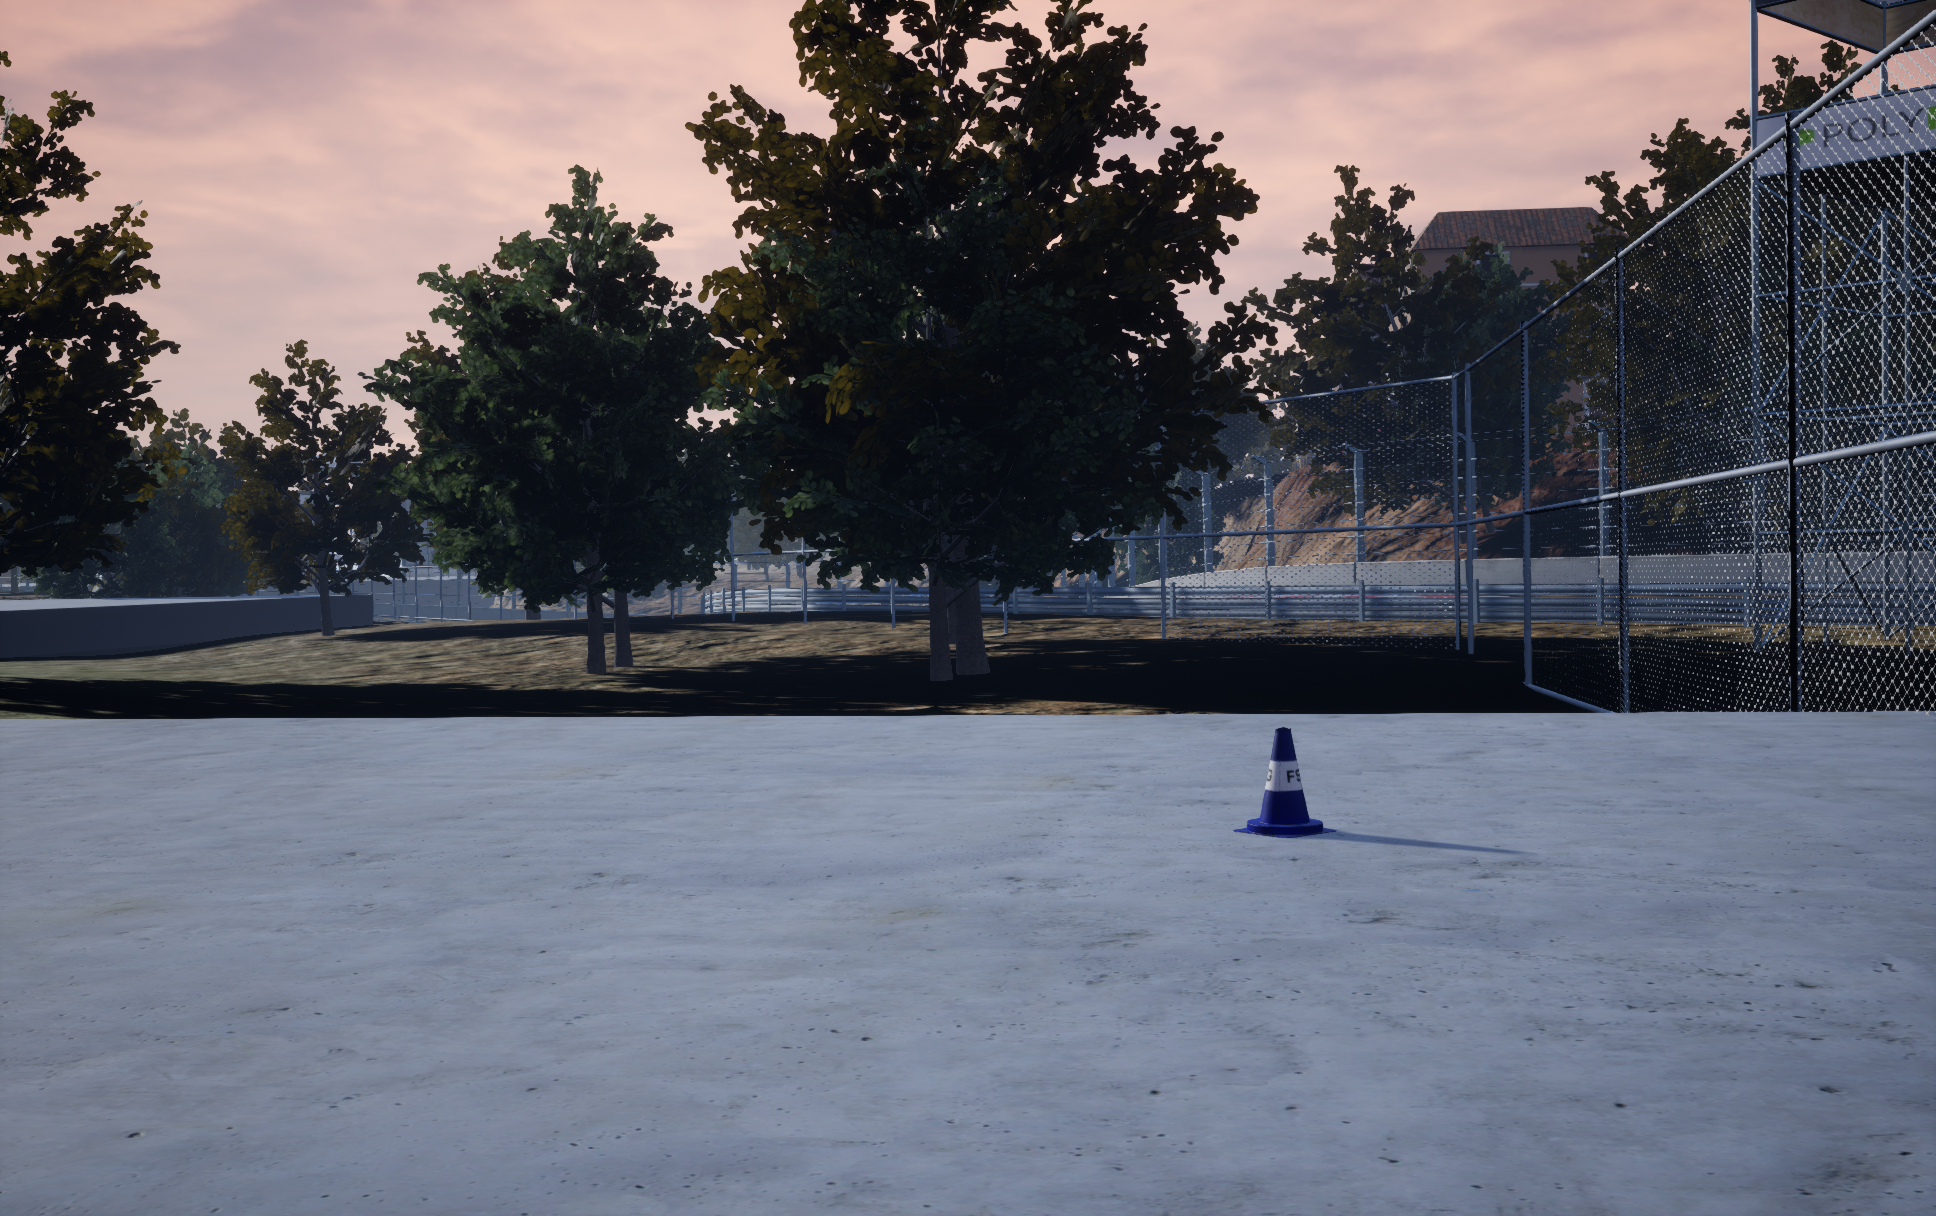yellow: (1233, 727, 1336, 836)
